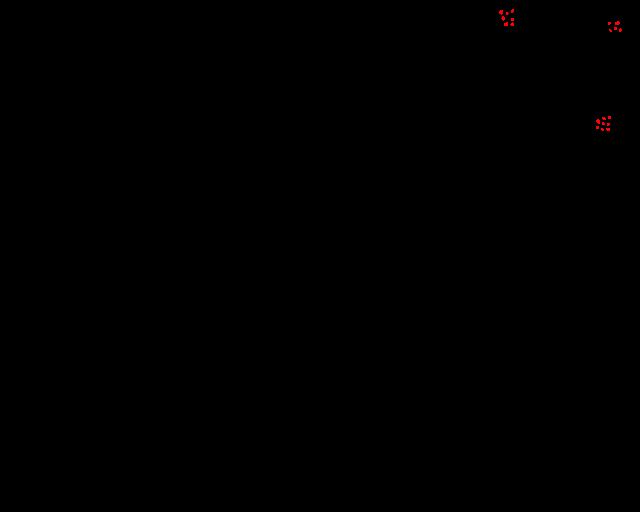Target: (499, 10, 503, 15), (501, 16, 505, 21), (615, 21, 620, 25), (596, 119, 600, 124), (504, 22, 508, 26), (510, 22, 514, 26), (511, 9, 514, 13), (619, 28, 622, 32), (602, 117, 606, 120), (606, 128, 610, 131), (506, 12, 509, 15), (511, 18, 514, 21), (608, 22, 611, 25), (614, 27, 617, 30), (609, 29, 612, 32), (608, 116, 611, 119), (602, 122, 605, 125), (607, 123, 610, 126), (596, 126, 599, 129), (601, 128, 604, 131)
